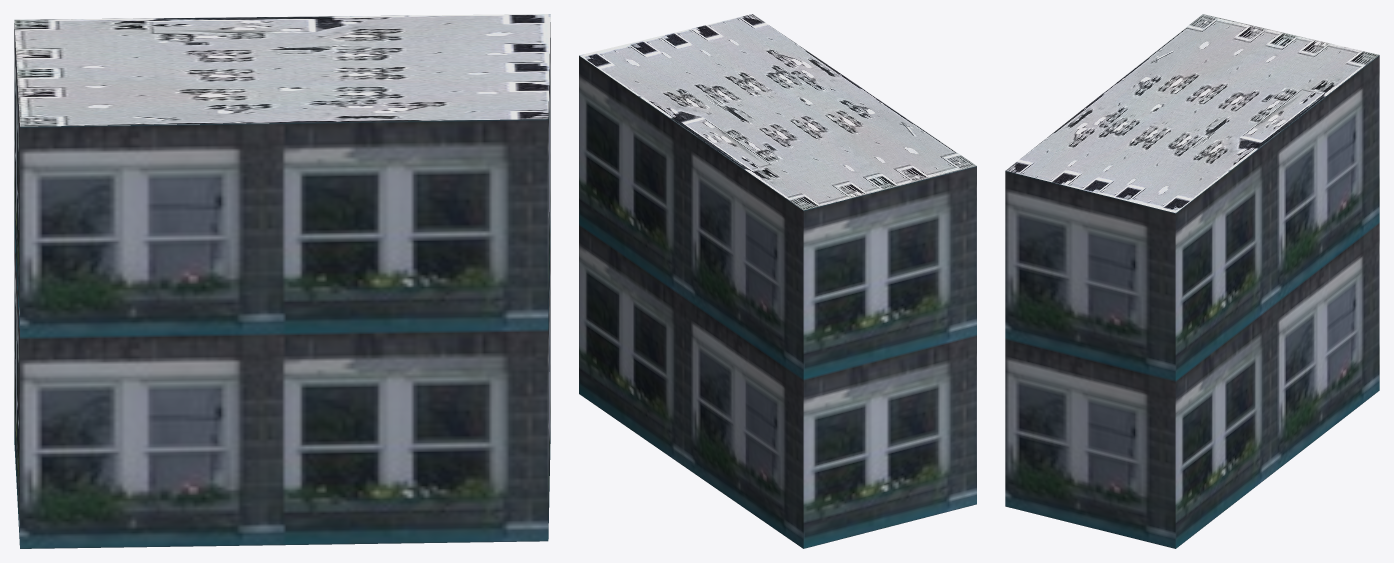
The model's file is ResTex__4045.fbx.
The picture shows the model from 3 angles, left to right: view 1: azimuth 30°, elevation 25°; view 2: azimuth 150°, elevation 25°; view 3: azimuth 270°, elevation 25°; orthographic projection. The views are drawn at different scales.
Visible parts, largest first — view 1: CityEngineMaterial_11_m, CityEngineMaterial_2_m; view 2: CityEngineMaterial_11_m, CityEngineMaterial_2_m; view 3: CityEngineMaterial_11_m, CityEngineMaterial_2_m.
Part boxes in pixels (left/top/right/bottom): CityEngineMaterial_11_m: left=14, top=22, right=550, bottom=548; CityEngineMaterial_2_m: left=14, top=14, right=550, bottom=126; CityEngineMaterial_11_m: left=579, top=55, right=976, bottom=548; CityEngineMaterial_2_m: left=579, top=14, right=976, bottom=210; CityEngineMaterial_11_m: left=1005, top=55, right=1379, bottom=548; CityEngineMaterial_2_m: left=1005, top=14, right=1378, bottom=213.
Size of the model in its own units: 7.64 by 6 by 6.06.
2 materials, 2 textured.
